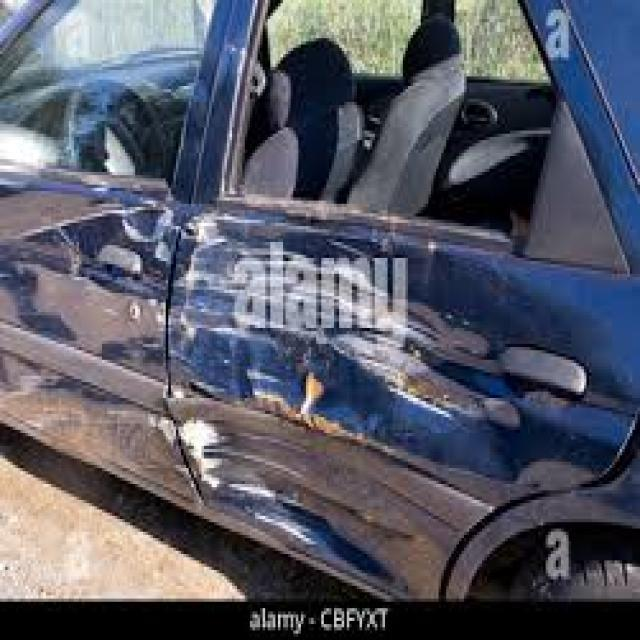damaged-door: (175, 0, 640, 596)
